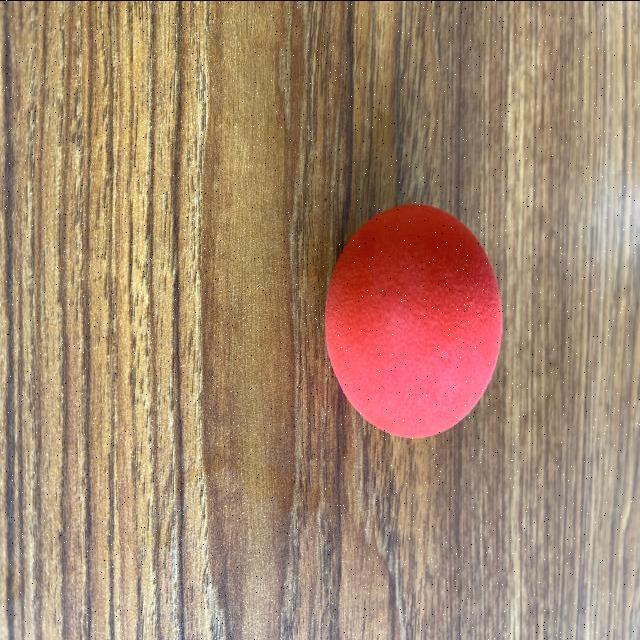ping-pong-ball: (324, 202, 502, 438)
